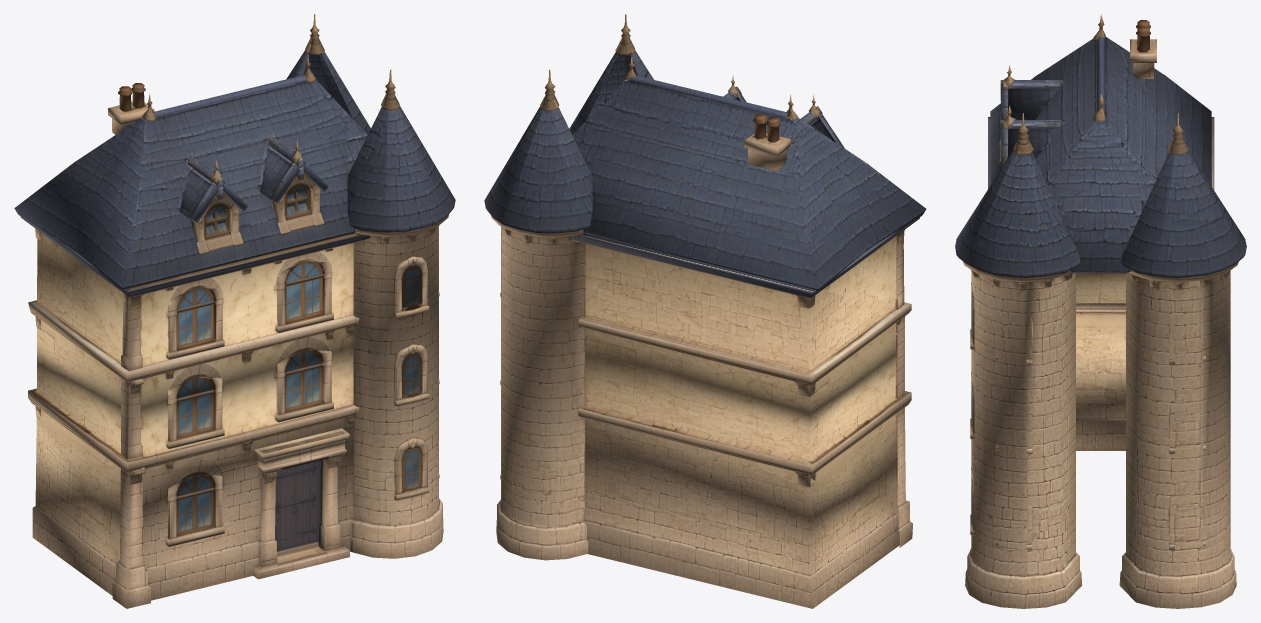
File: Furn_Town2_House_B.fbx
The picture shows the model from 3 angles, left to right: view 1: azimuth 30°, elevation 25°; view 2: azimuth 150°, elevation 25°; view 3: azimuth 270°, elevation 25°; orthographic projection. The views are drawn at different scales.
Parts seen in each view (by area): view 1: Furn_Town2_House_B; view 2: Furn_Town2_House_B; view 3: Furn_Town2_House_B.
Part boxes in pixels (left/top/right/bottom): Furn_Town2_House_B: left=14, top=14, right=455, bottom=608; Furn_Town2_House_B: left=484, top=14, right=926, bottom=608; Furn_Town2_House_B: left=955, top=14, right=1246, bottom=608.
Bounding box in the file's own units: 9.2 × 12 × 6.69.
Materials: 1 (1 with a texture image).
